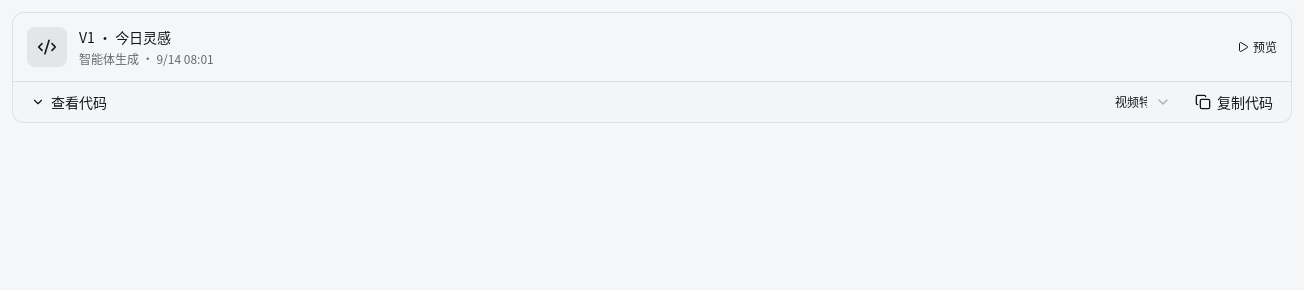
Test: 没有定位信息的失败诊断仍显示未通过
Click the button with aria-label "展开 V1 代码" at (69, 102), box [21,86,117,118]
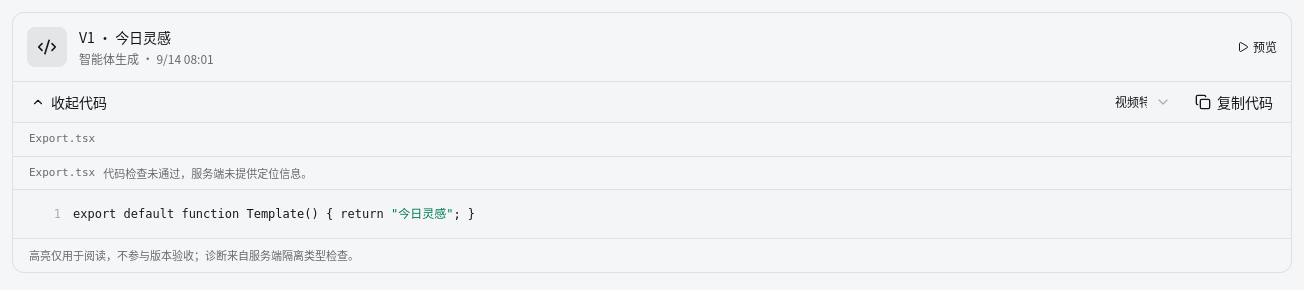
Expected: the text "代码检查未通过，服务端未提供定位信息。" is shown, [103,164,312,181]
